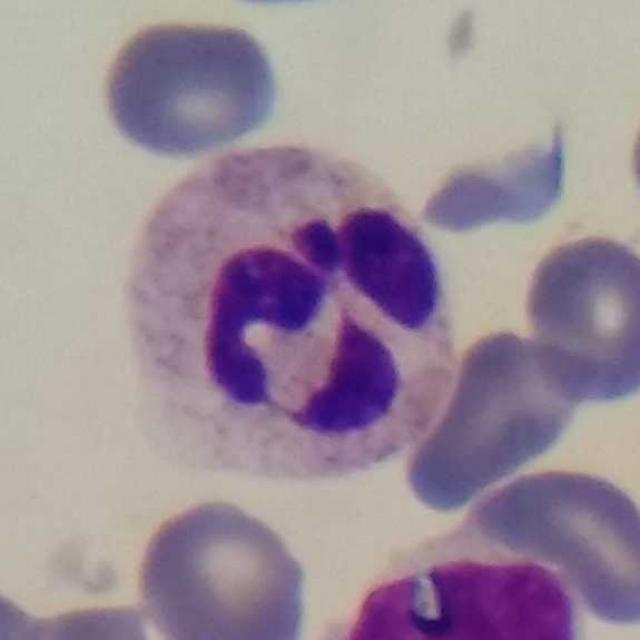Monocyte: (312, 537, 622, 638)
Neutrophil: (94, 126, 488, 514)
RBC: (394, 322, 590, 518), (463, 458, 640, 636), (94, 11, 287, 163), (127, 491, 317, 640), (516, 226, 640, 412), (409, 118, 580, 243), (7, 594, 190, 640), (1, 575, 72, 640), (621, 79, 640, 246)
